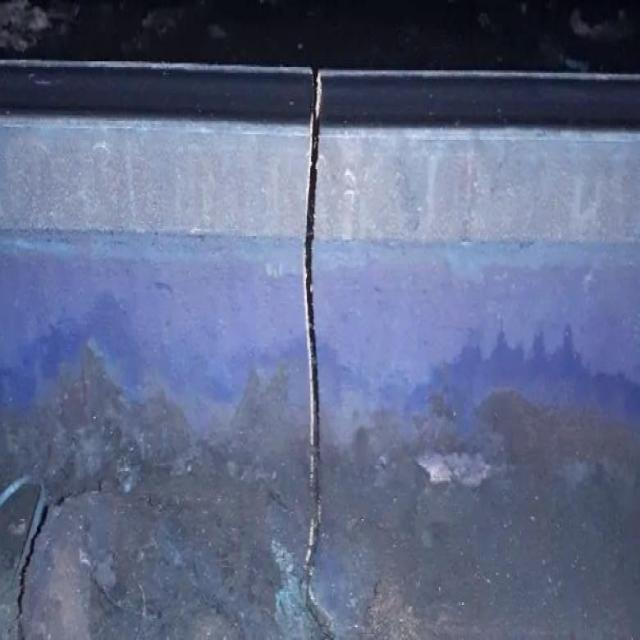broken_rail_medium: (268, 85, 357, 640)
